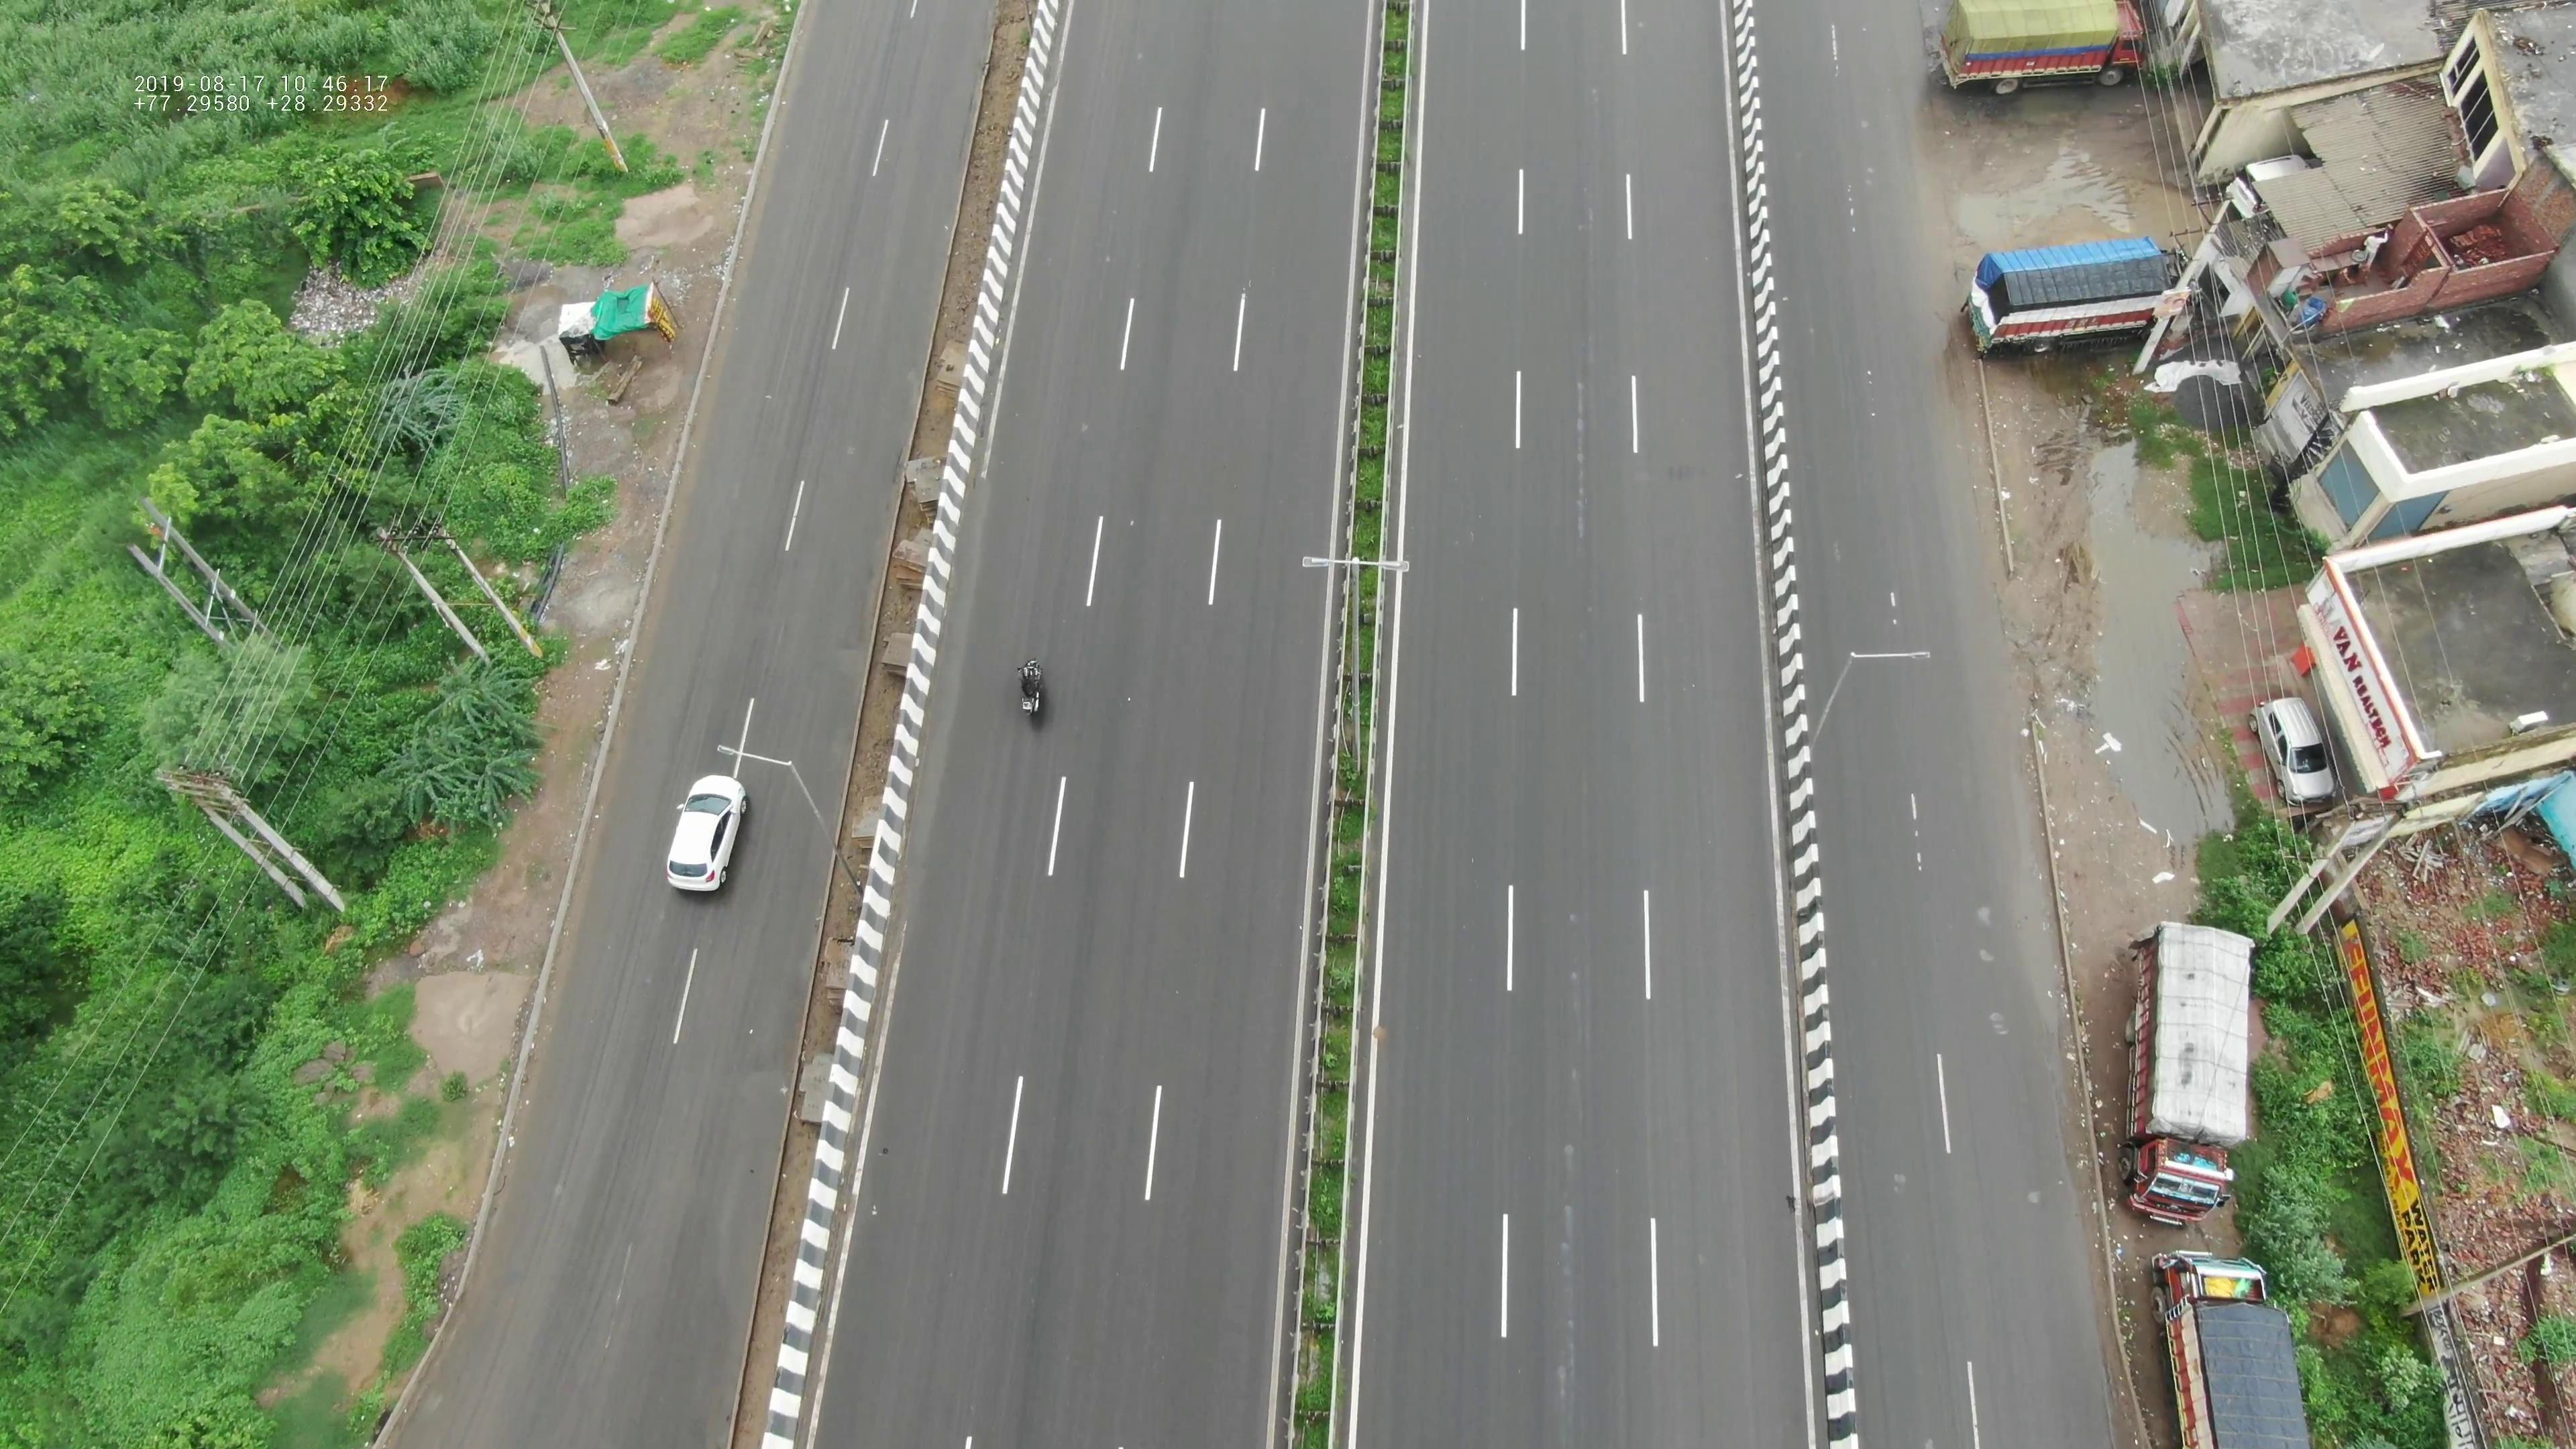Waterlogging: (2052, 398, 2233, 853)
